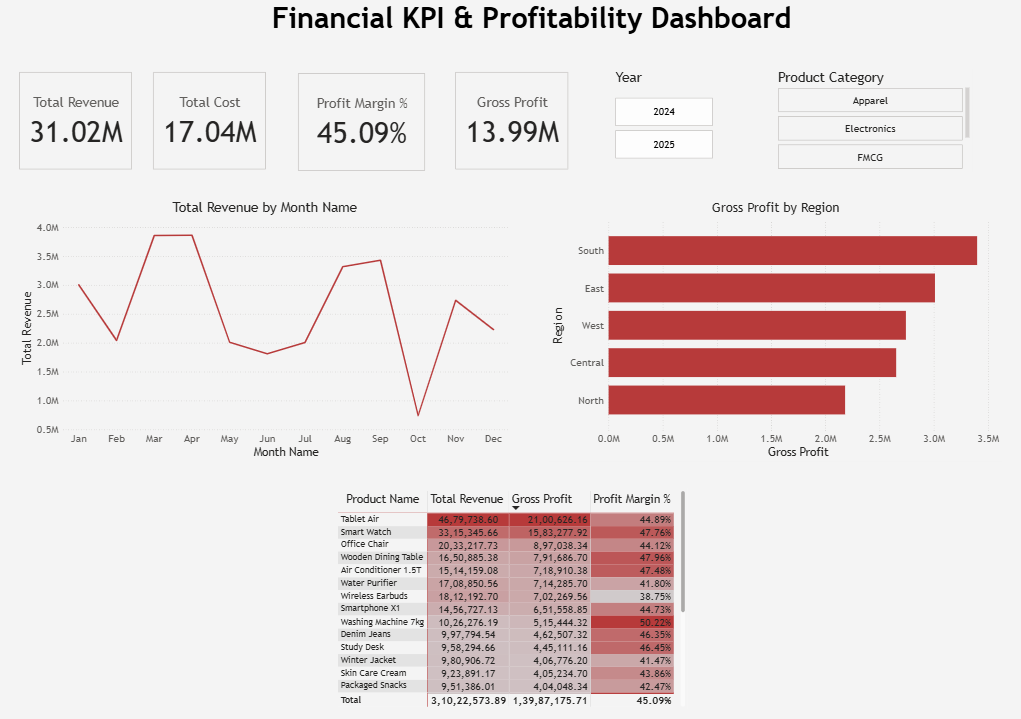

This screenshot's page, from the dashboard's own definition file:
{"tool":"powerbi","page":{"name":"Page 1","canvas":[2000,1800],"ordinal":0},"visuals":[{"type":"cardVisual","fields":{"Data":["_Measures .Total Revenue"]},"box":[35.6,191.1,230,200],"z":0},{"type":"cardVisual","fields":{"Data":["_Measures .Total Cost"]},"box":[297.8,191.1,230,200],"z":1000},{"type":"cardVisual","fields":{"Data":["_Measures .Profit Margin %"]},"box":[580.6,191.7,258.3,200],"z":2000},{"type":"cardVisual","fields":{"Data":["_Measures .Gross Profit"]},"box":[888.9,191.1,230,200],"z":3000},{"type":"lineChart","fields":{"Category":["Date Table.Month Name"],"Y":["_Measures .Total Revenue"]},"box":[40,445,962.5,510],"z":4000},{"type":"clusteredBarChart","fields":{"Category":["Financial_KPI_Data.Region"],"Y":["_Measures .Gross Profit"]},"box":[1075,444.4,883.3,511.1],"z":5000},{"type":"advancedSlicerVisual","fields":{"Values":["Date Table.Year"]},"box":[1200,190.3,200,200],"z":6000},{"type":"advancedSlicerVisual","fields":{"Values":["Financial_KPI_Data.Product Category"]},"box":[1516.1,190.3,383.9,200],"z":7000},{"type":"pivotTable","fields":{"Rows":["Financial_KPI_Data.Product Name"],"Values":["_Measures .Total Revenue","_Measures .Gross Profit","_Measures .Profit Margin %"]},"box":[659.4,1006.2,687.5,431.2],"z":8000},{"type":"textbox","box":[528.2,51.3,1061.5,84.6],"z":10000}]}

Visuals, with their boxes on the page's 2000x1800 design canvas (x1, y1, x2, y2). These are canvas units, not pixel positions in the 1021x719 screenshot, which may show the page scaled, cropped or inside an application window:
cardVisual - _Measures .Total Revenue: l=36, t=191, r=266, b=391
cardVisual - _Measures .Total Cost: l=298, t=191, r=528, b=391
cardVisual - _Measures .Profit Margin %: l=581, t=192, r=839, b=392
cardVisual - _Measures .Gross Profit: l=889, t=191, r=1119, b=391
lineChart - Date Table.Month Name x _Measures .Total Revenue: l=40, t=445, r=1002, b=955
clusteredBarChart - Financial_KPI_Data.Region x _Measures .Gross Profit: l=1075, t=444, r=1958, b=956
advancedSlicerVisual - Date Table.Year: l=1200, t=190, r=1400, b=390
advancedSlicerVisual - Financial_KPI_Data.Product Category: l=1516, t=190, r=1900, b=390
pivotTable - Financial_KPI_Data.Product Name x _Measures .Total Revenue: l=659, t=1006, r=1347, b=1437
textbox: l=528, t=51, r=1590, b=136
